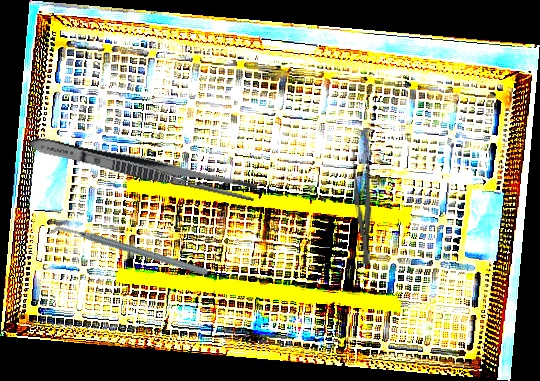Chopper: (46, 174, 210, 329)
Dressing Forceps: (28, 132, 259, 204), (349, 148, 378, 266)
